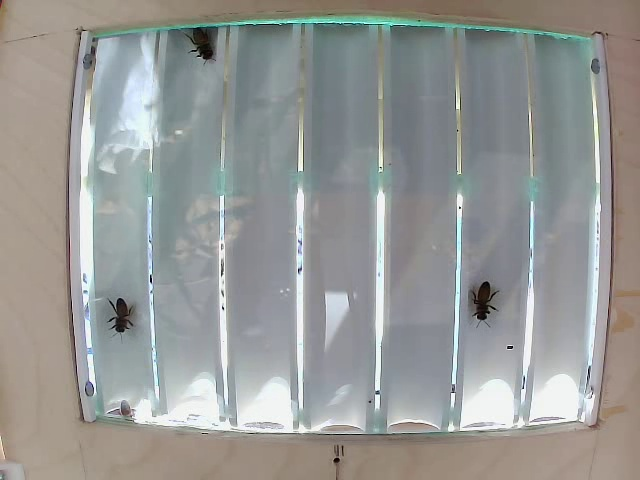bee: (463, 264, 498, 311), (102, 288, 128, 337), (192, 22, 218, 60)
